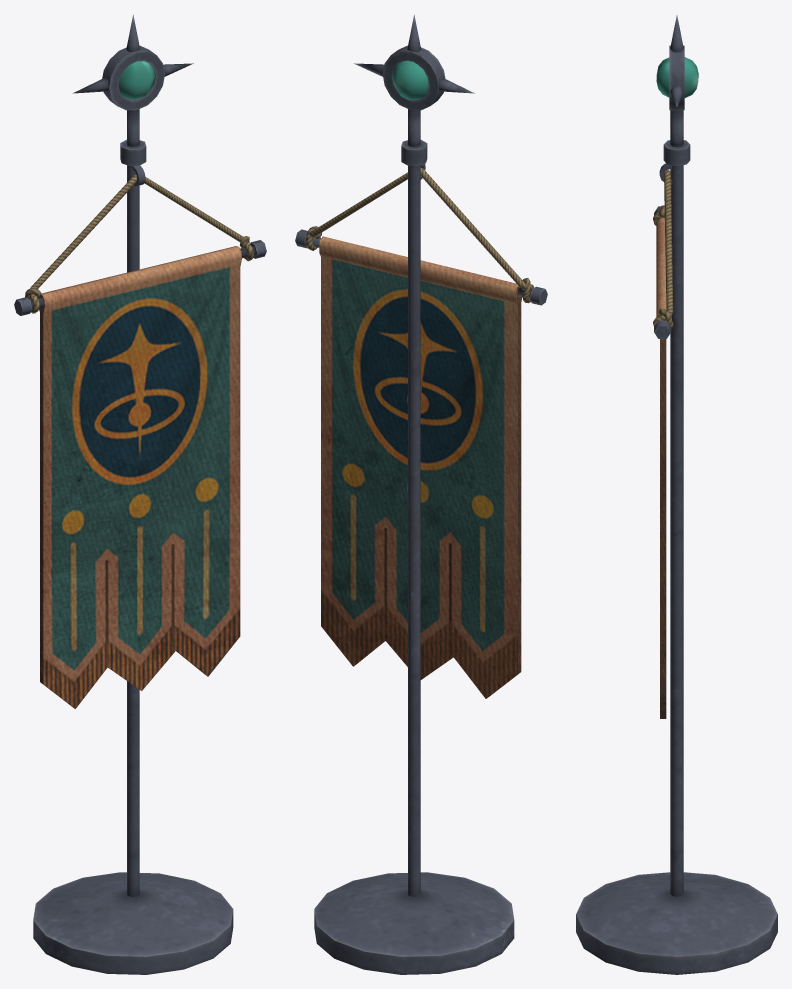
Rendered from sb_obj_indoor017_Tapestry02.fbx.
3 renders of one model, left to right at view 1: azimuth 30°, elevation 25°; view 2: azimuth 150°, elevation 25°; view 3: azimuth 270°, elevation 25°, orthographic.
Visible parts, largest first — view 1: sb_obj_indoor017_Tapestry02; view 2: sb_obj_indoor017_Tapestry02; view 3: sb_obj_indoor017_Tapestry02.
Part boxes in pixels (<box>): sb_obj_indoor017_Tapestry02: <box>14,15,266,974</box>; sb_obj_indoor017_Tapestry02: <box>295,15,547,974</box>; sb_obj_indoor017_Tapestry02: <box>576,15,777,974</box>.
Bounding box in the file's own units: 0.6525 × 2.35 × 0.4671.
